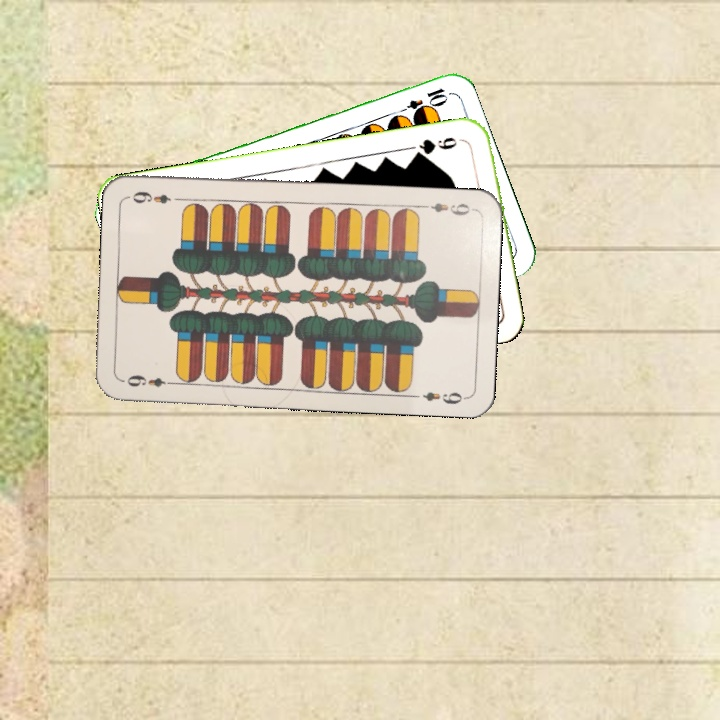E10: (392, 83, 449, 117)
E9: (417, 198, 476, 218), (123, 371, 178, 390)
G9: (410, 133, 460, 160)
